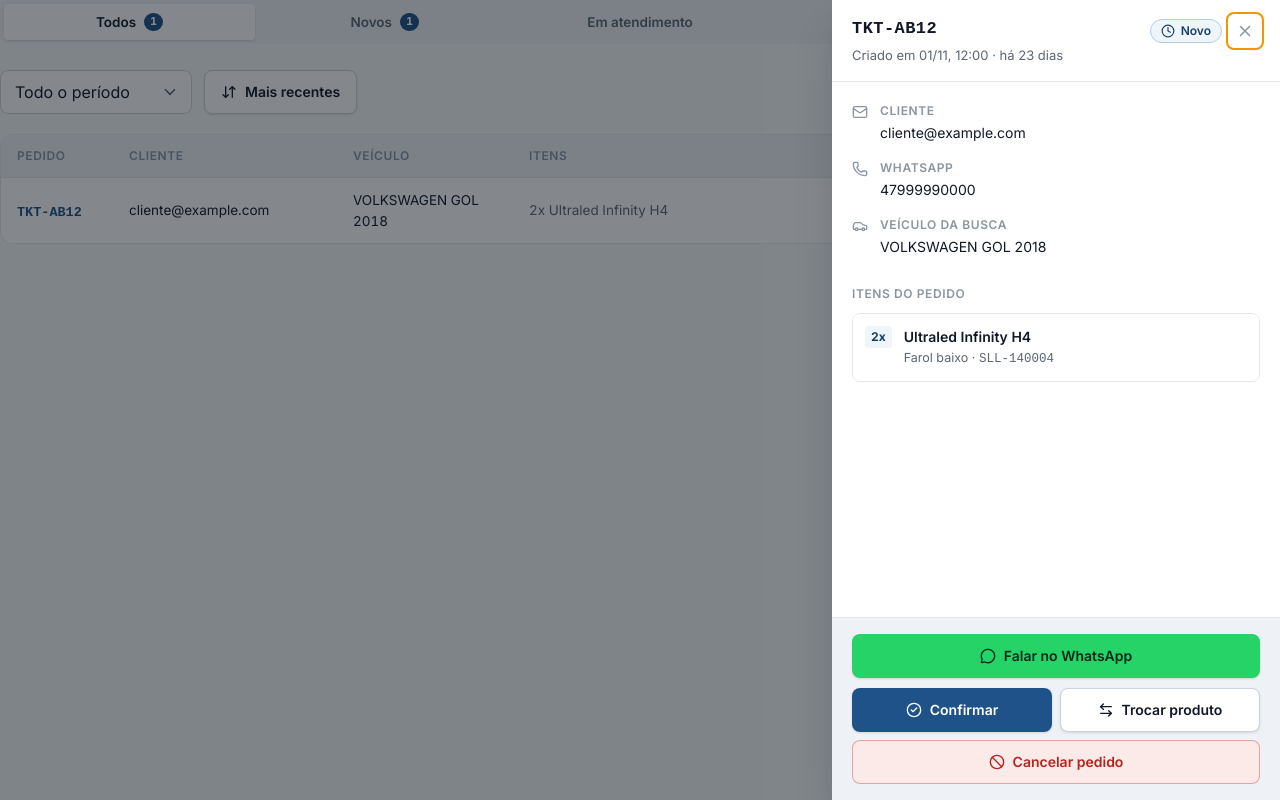
ModalTrocaProduto › troca o produto e avisa que o cliente será notificado
The image size is (1280, 800).
Expected: the dialog is shown, [832, 0, 1279, 799]
Click the button "Trocar produto".
click(1160, 710)  # box [1060, 688, 1260, 732]
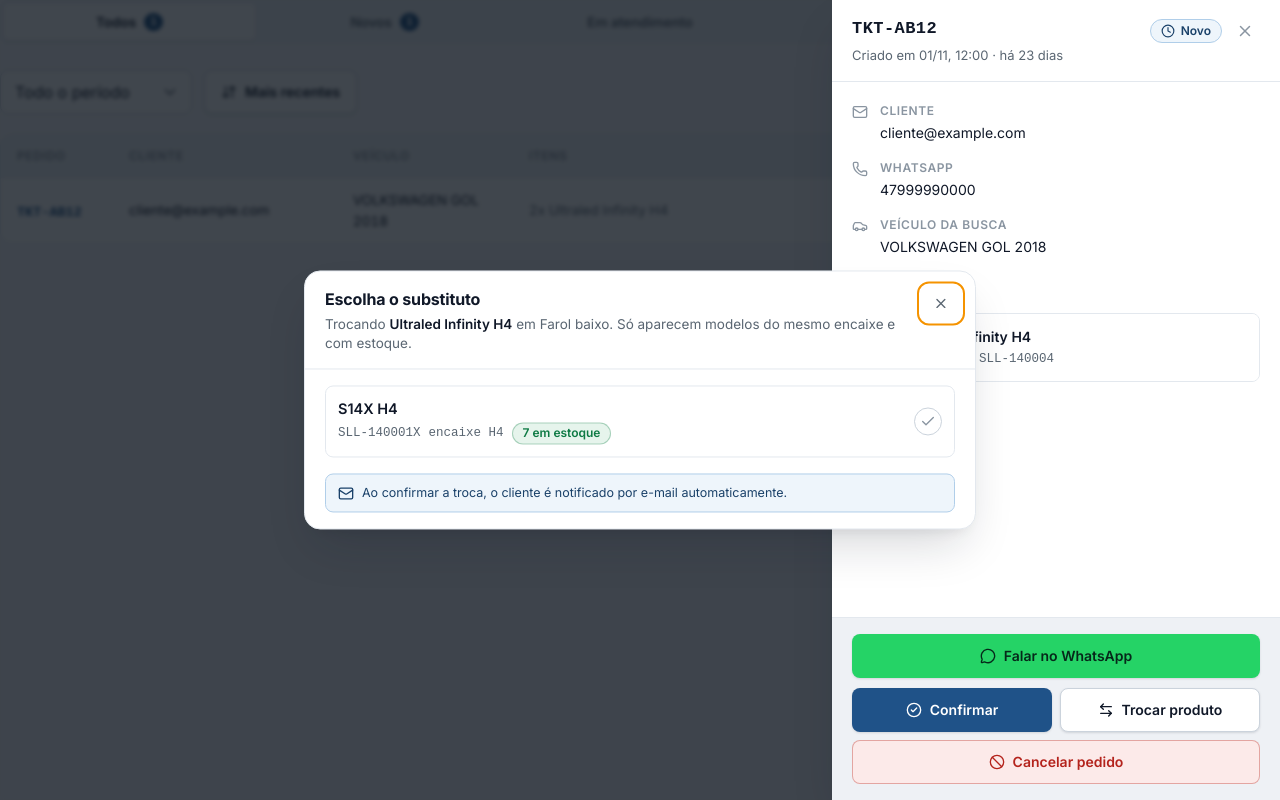
Now the text "S14X H4" is shown, box [338, 401, 398, 418]
Now the text "cliente é notificado por e-mail" is shown, box [362, 485, 787, 500]
Click the button named "Trocar por S14X H4".
click(368, 409)  # box [325, 386, 955, 457]
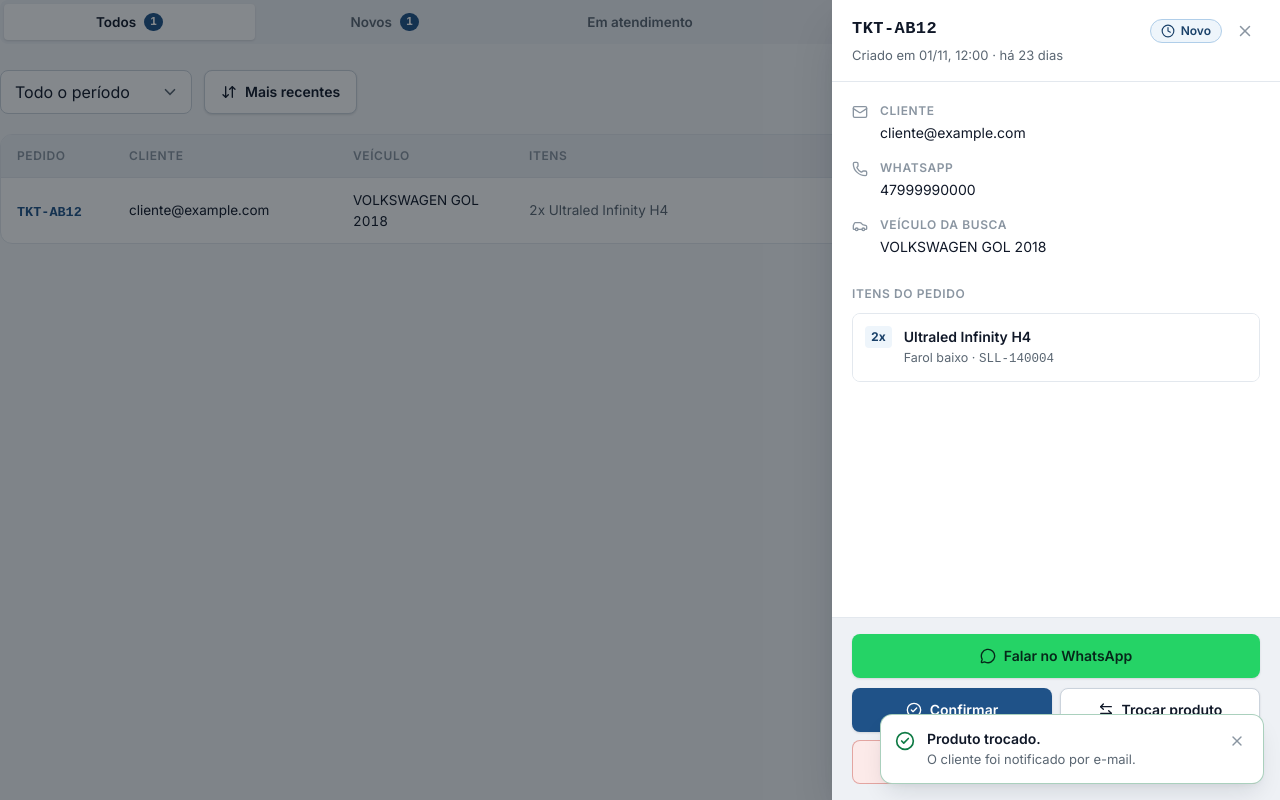
Now the text "O cliente foi notificado por e-mail." is shown, box [927, 751, 1136, 767]
